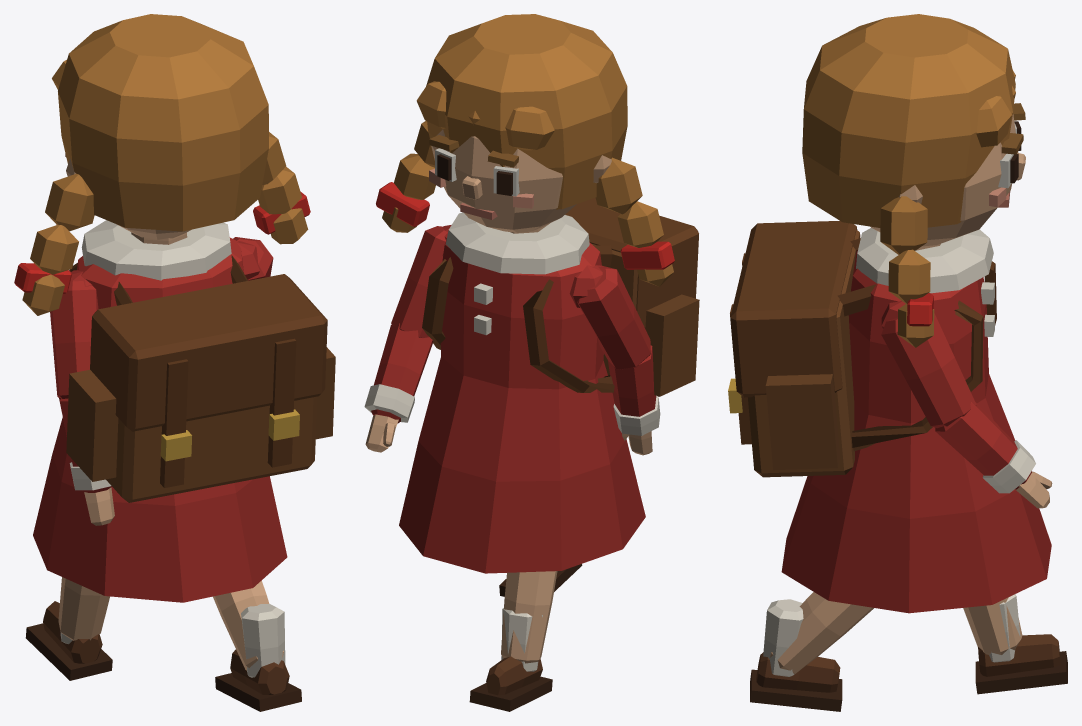
Rendered from chr_leni_bag_w1.glb.
3 views of the same model, side by side, from view 1: azimuth 30°, elevation 25°; view 2: azimuth 150°, elevation 25°; view 3: azimuth 270°, elevation 25° (orthographic). The views are drawn at different scales.
Parts seen in each view (by area): view 1: chr_leni_bag_w1; view 2: chr_leni_bag_w1; view 3: chr_leni_bag_w1.
Part boxes in pixels (x1,y1,x2,y2): chr_leni_bag_w1: (14, 14, 335, 711); chr_leni_bag_w1: (364, 14, 699, 711); chr_leni_bag_w1: (728, 14, 1067, 711).
Bounding box in the file's own units: 0.4993 × 1.05 × 0.4842.
